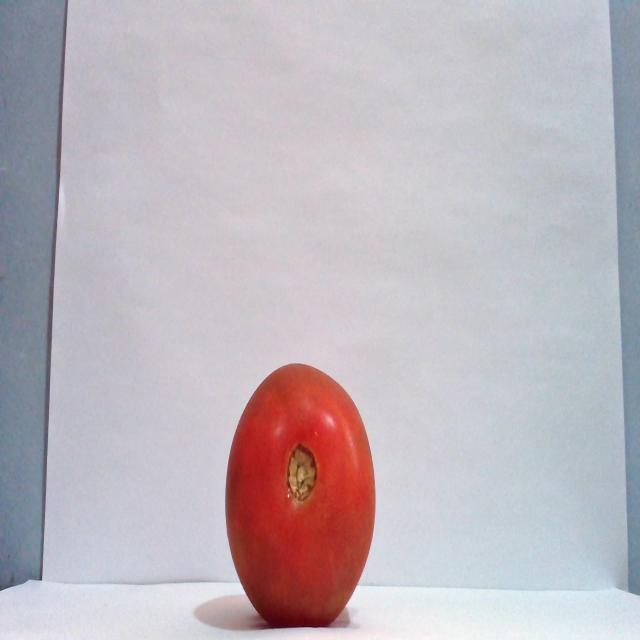Red: (223, 361, 376, 627)
